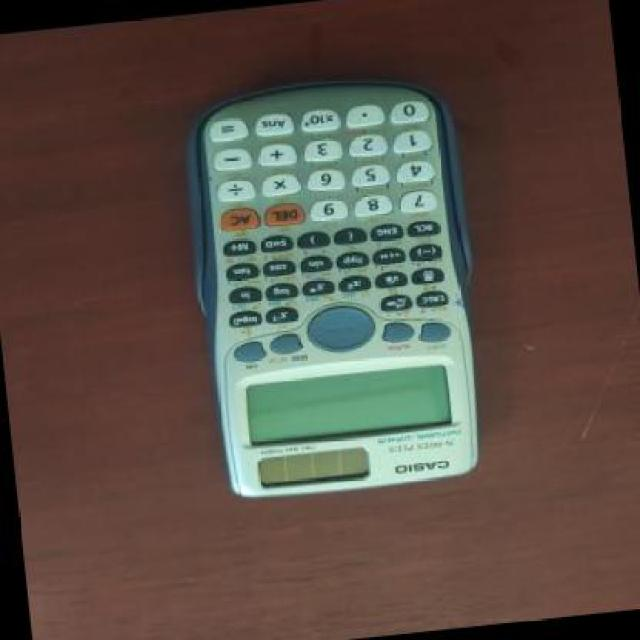Calculator: (165, 58, 506, 514)
